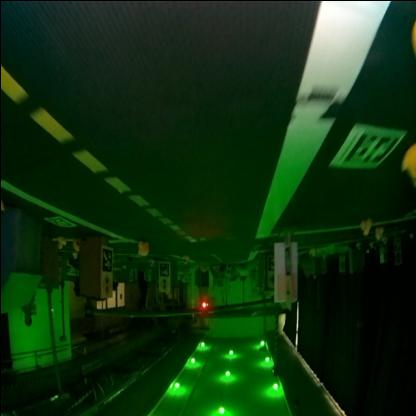Duckie: (134, 240, 148, 257), (361, 219, 371, 234), (182, 256, 186, 264)
QR code: (328, 124, 402, 169), (99, 247, 112, 272), (159, 262, 169, 276)
Signal sign: (159, 278, 169, 290)
Traffic light: (198, 299, 208, 309)
